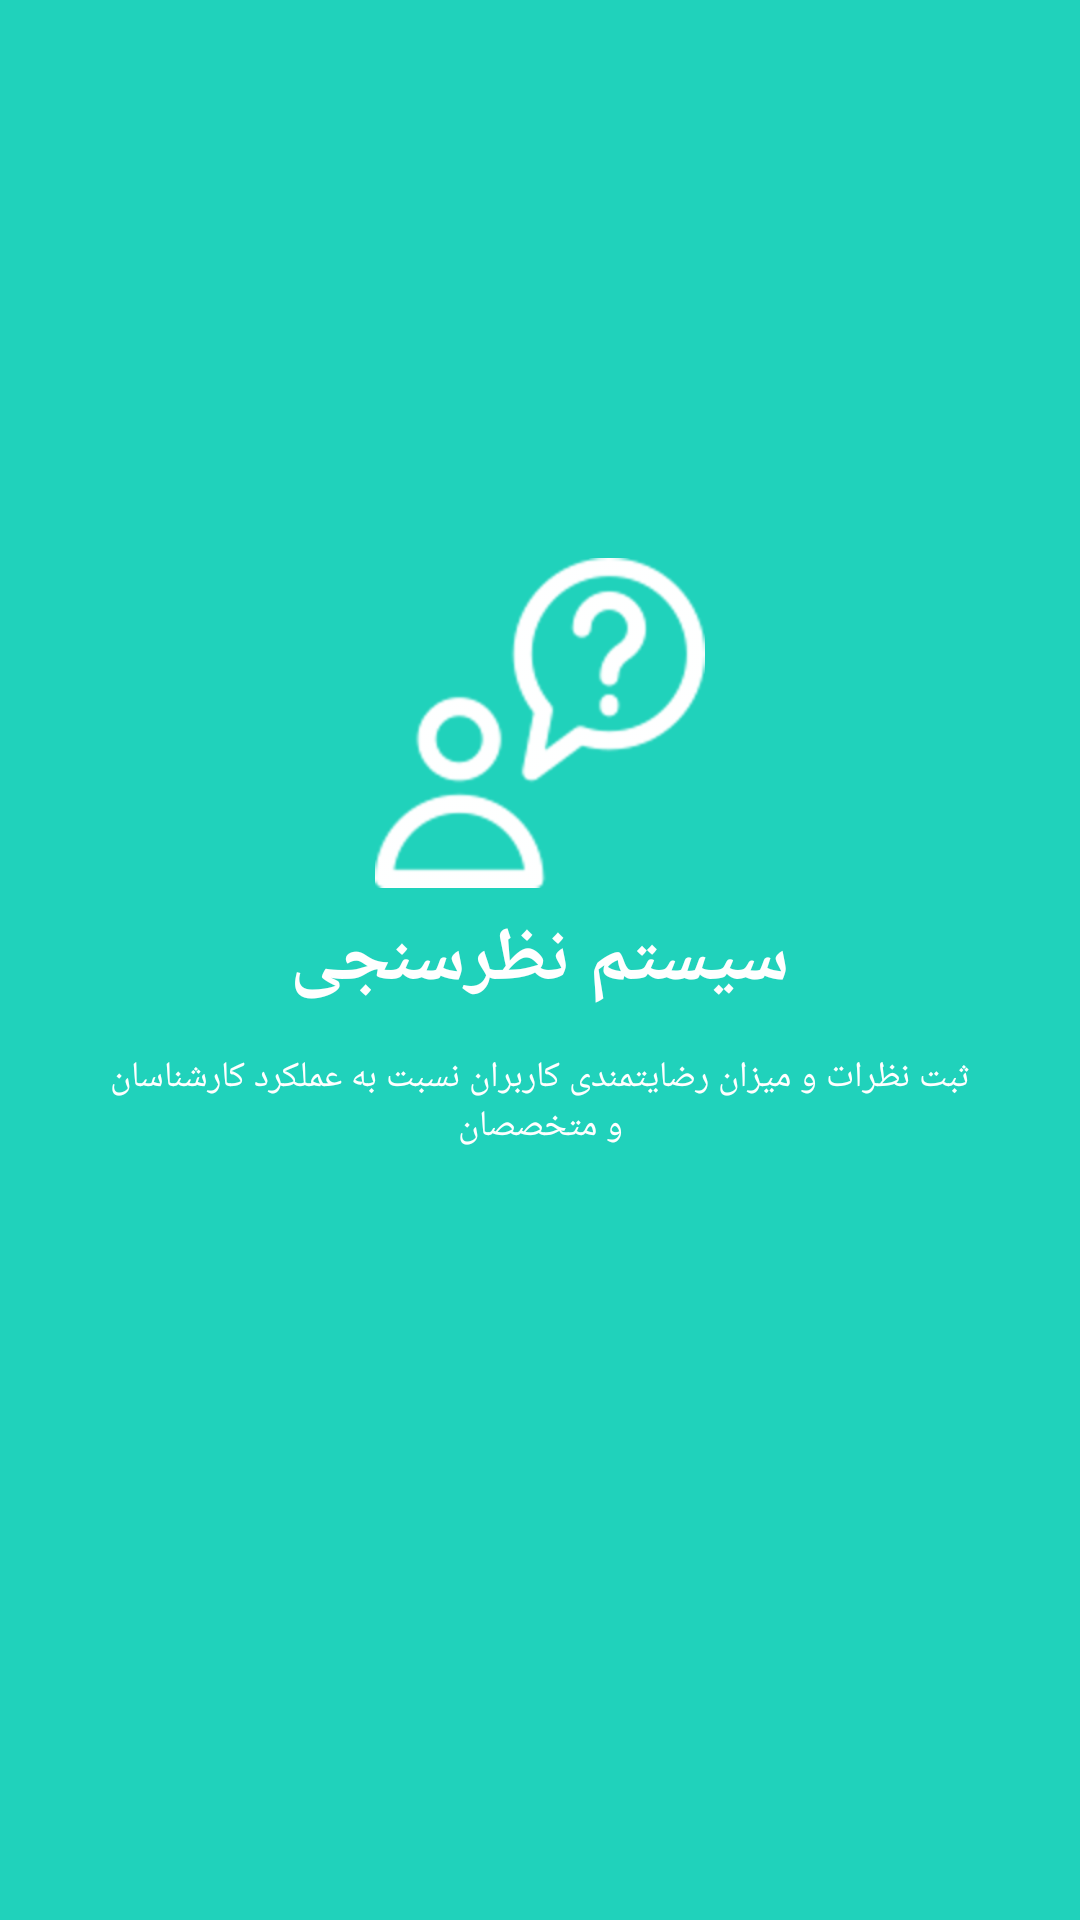

Screen size 1080 × 1920. Icon name, then its box in pixels as (x1, y1, x2, y2):
question: (375, 558, 705, 888)
